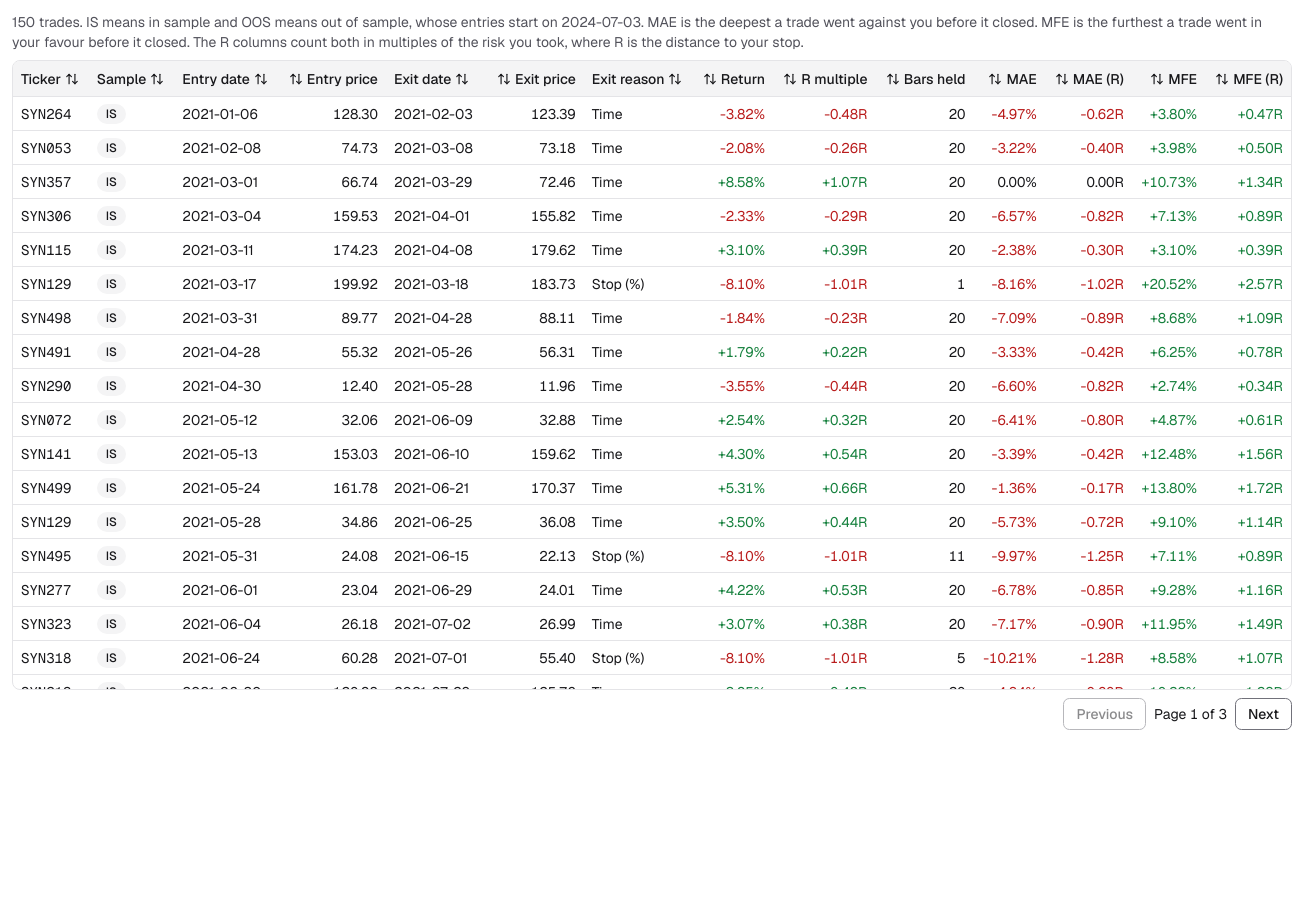
Test: TradeList › marks out of sample trades, which sort above IS on the second click
Click the button "Sample": (130, 78) [97,62,164,94]
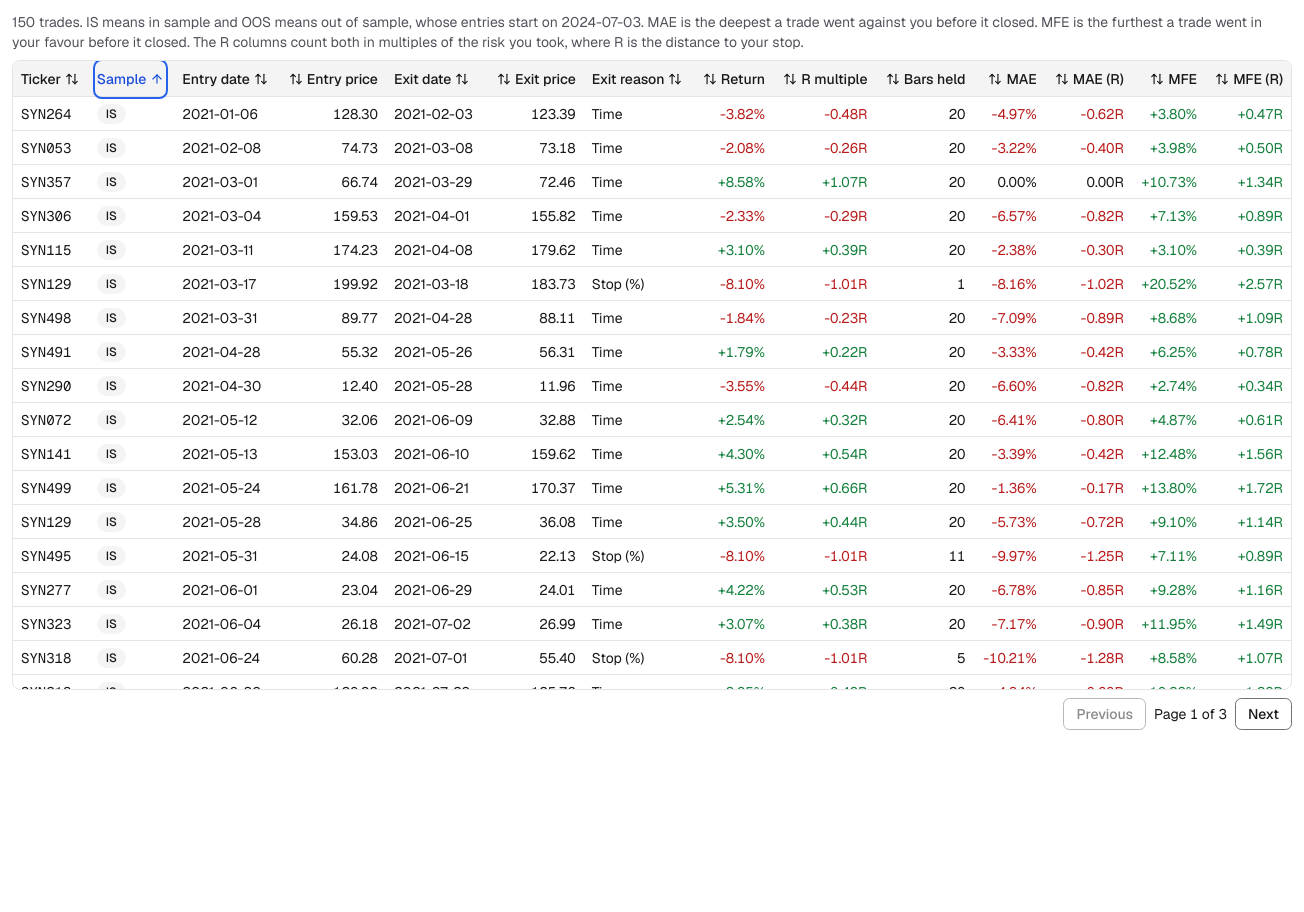
Click the button "Sample": (130, 78) [97,62,164,94]
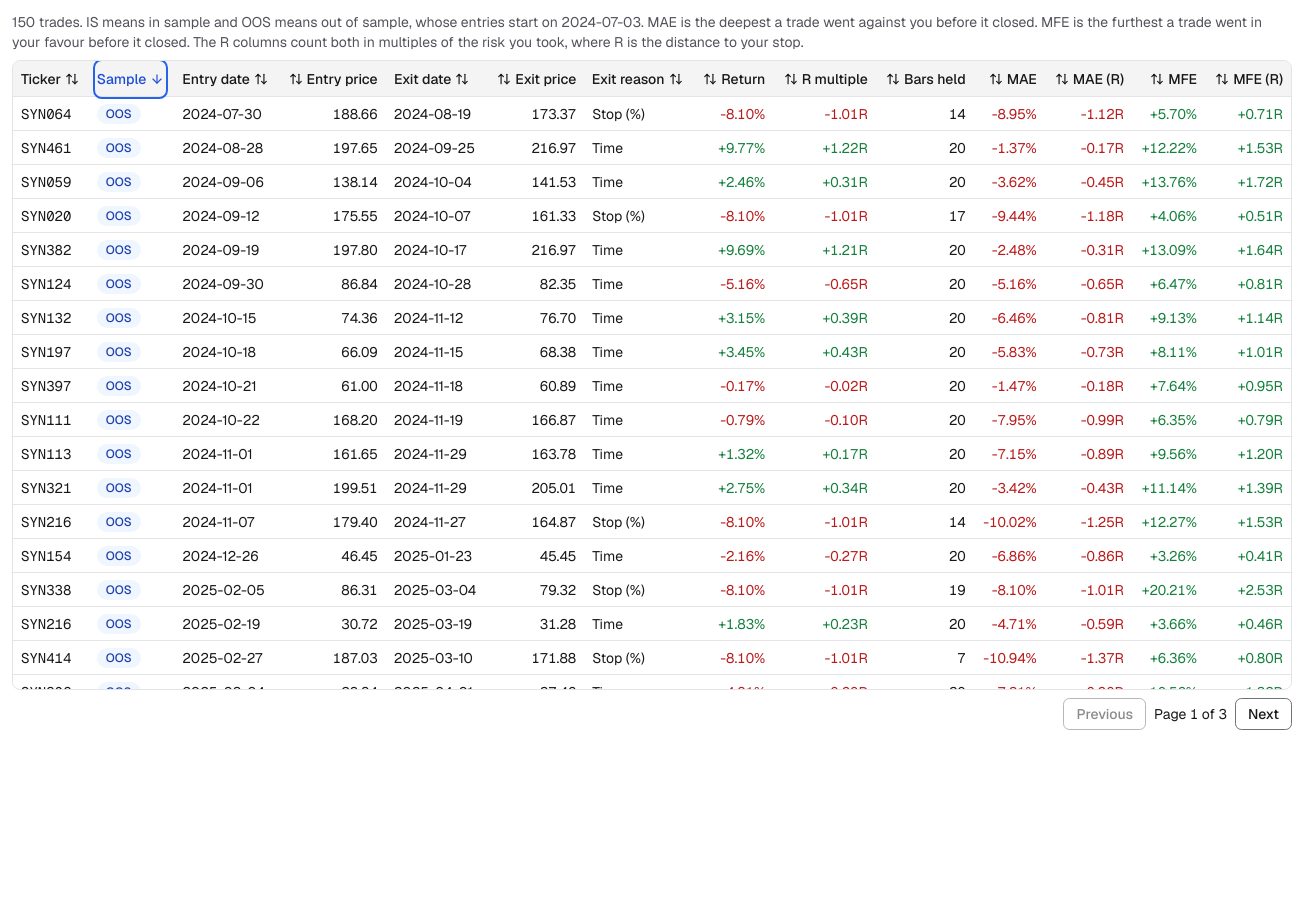
Expected: the text "OOS" next to "SYN064" is shown, [106,106,132,122]
